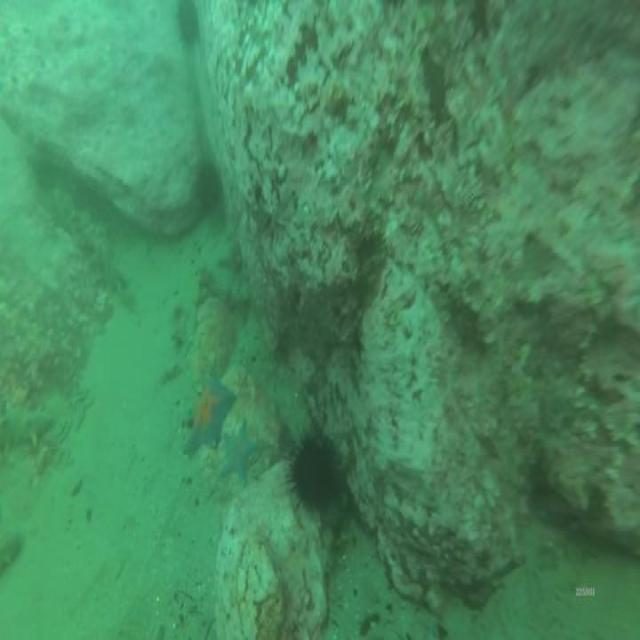echinus: (292, 433, 340, 510), (195, 163, 222, 213), (176, 2, 199, 44)
holothurian: (203, 256, 250, 307), (4, 404, 54, 442)
starfish: (185, 374, 233, 450), (224, 417, 254, 484)
